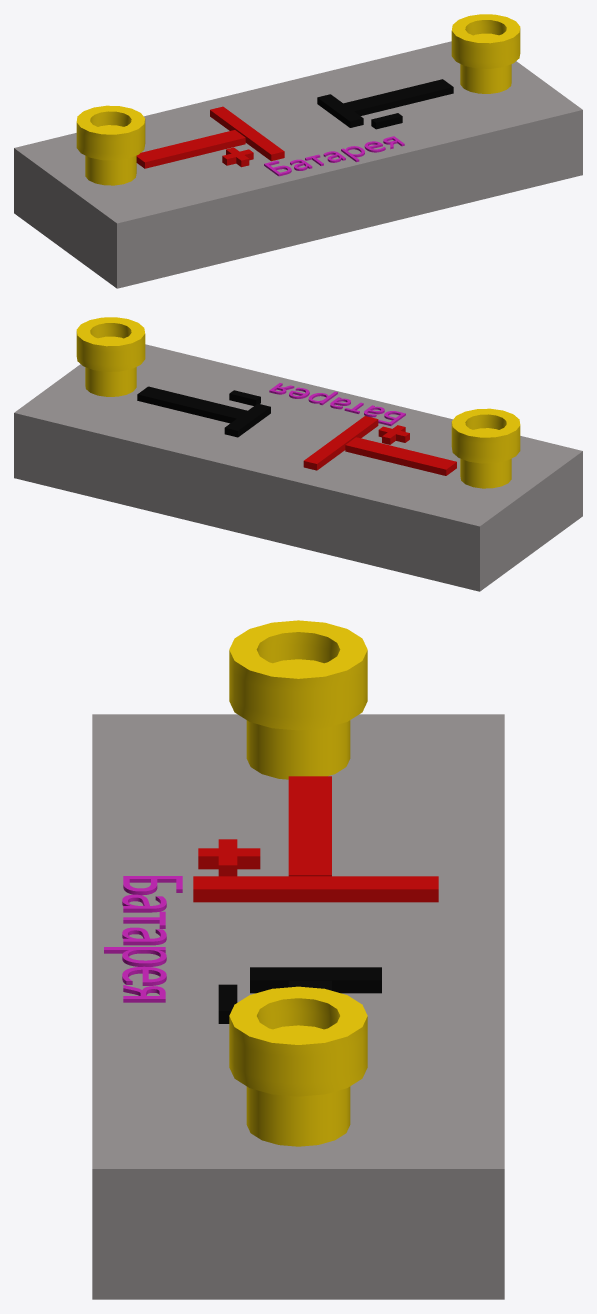
File: батарея.fbx
3 views of the same model, one above another, from view 1: azimuth 30°, elevation 25°; view 2: azimuth 150°, elevation 25°; view 3: azimuth 270°, elevation 25° (orthographic). The views are drawn at different scales.
Parts seen in each view (by area): view 1: Выдавливание_5; view 2: Выдавливание_5; view 3: Выдавливание_5.
Boxes of the visible parts, x1=… form: Выдавливание_5: x1=14, y1=14, x2=582, y2=288; Выдавливание_5: x1=14, y1=317, x2=582, y2=591; Выдавливание_5: x1=92, y1=620, x2=504, y2=1299.
Size of the model in its own units: 521 by 128 by 200.
